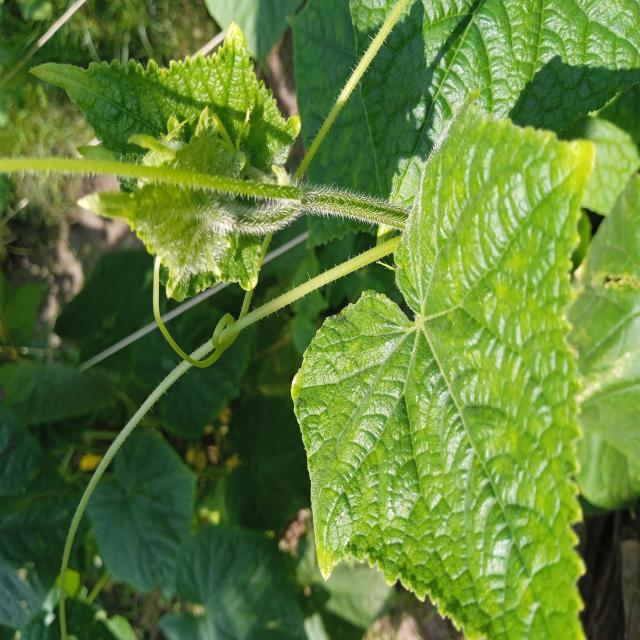cucumber_healthy: (286, 94, 600, 640), (24, 20, 309, 198), (84, 417, 302, 640), (72, 102, 270, 315)
